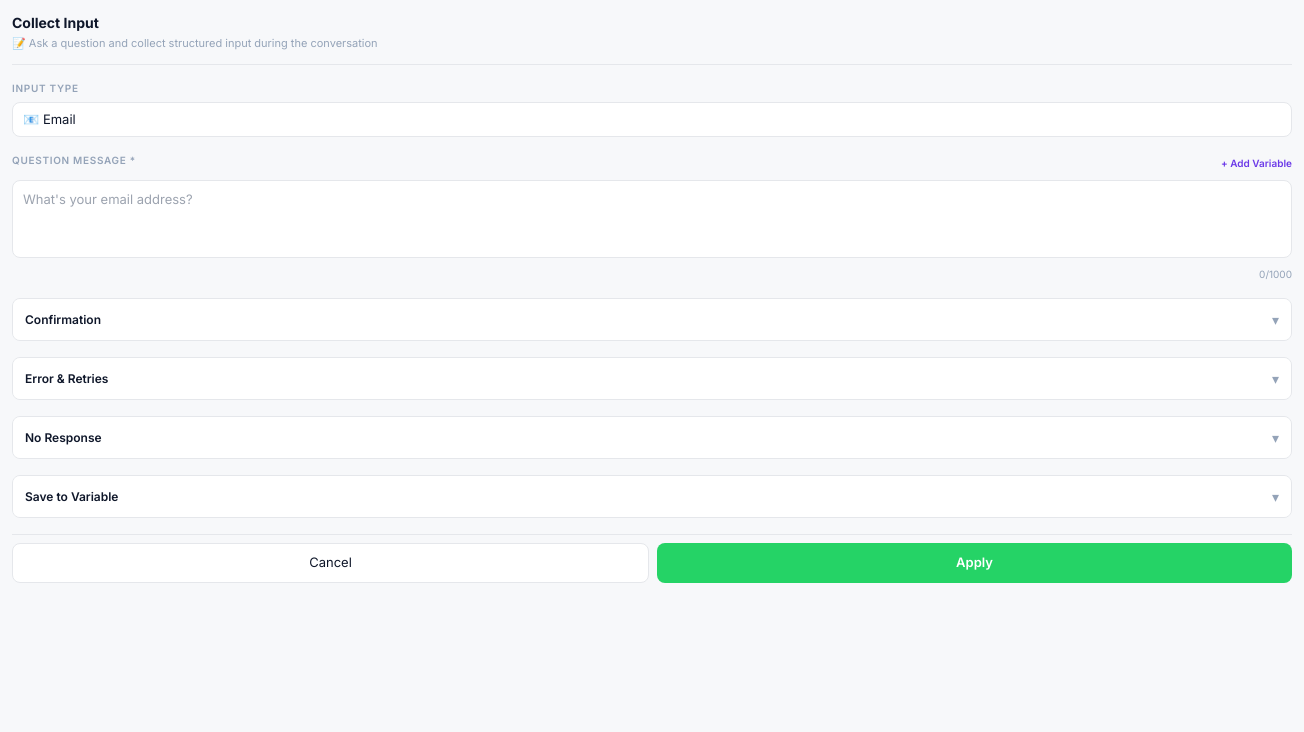
CollectInputForm › shows quick reply button editor when type is quick_reply
The image size is (1304, 732).
Select "🔘 Quick Reply" in the dropdown labelled "Input Type" at x=652, y=119, box [12, 102, 1292, 137]
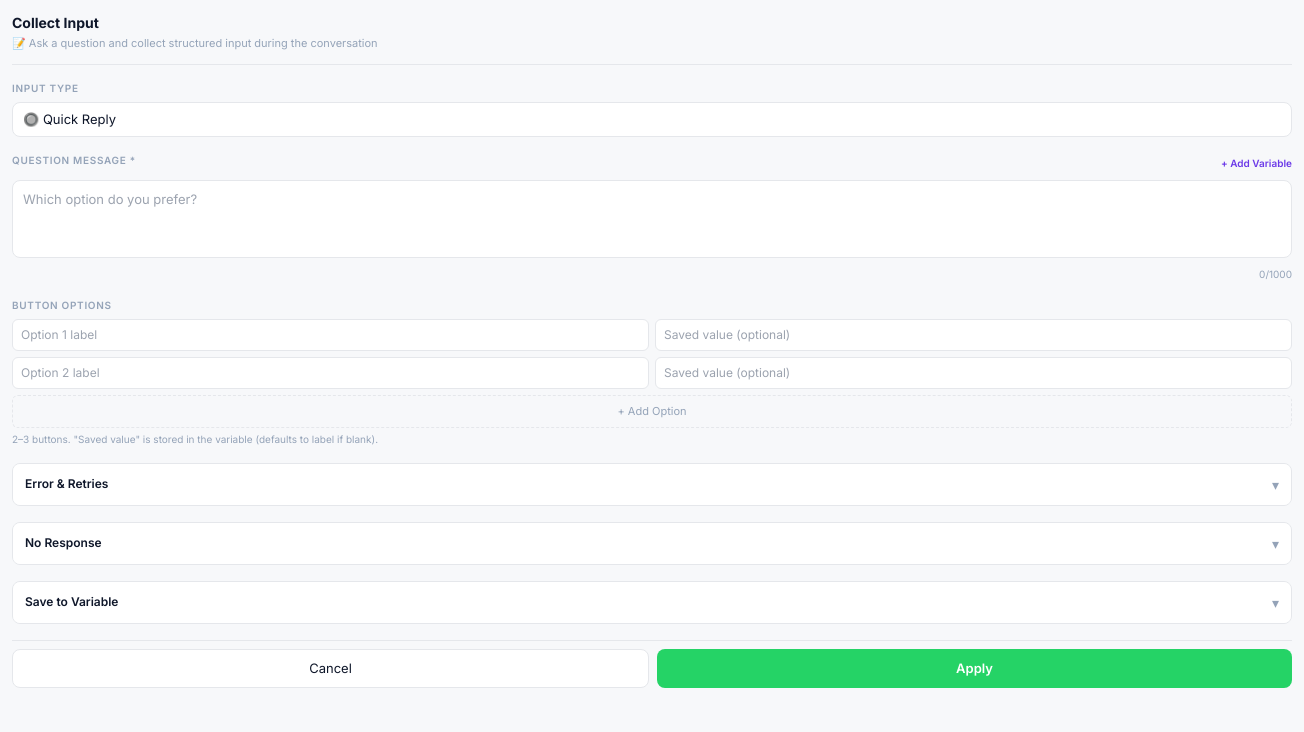
Result: the text "Button Options" is shown at [12, 299, 112, 311]
